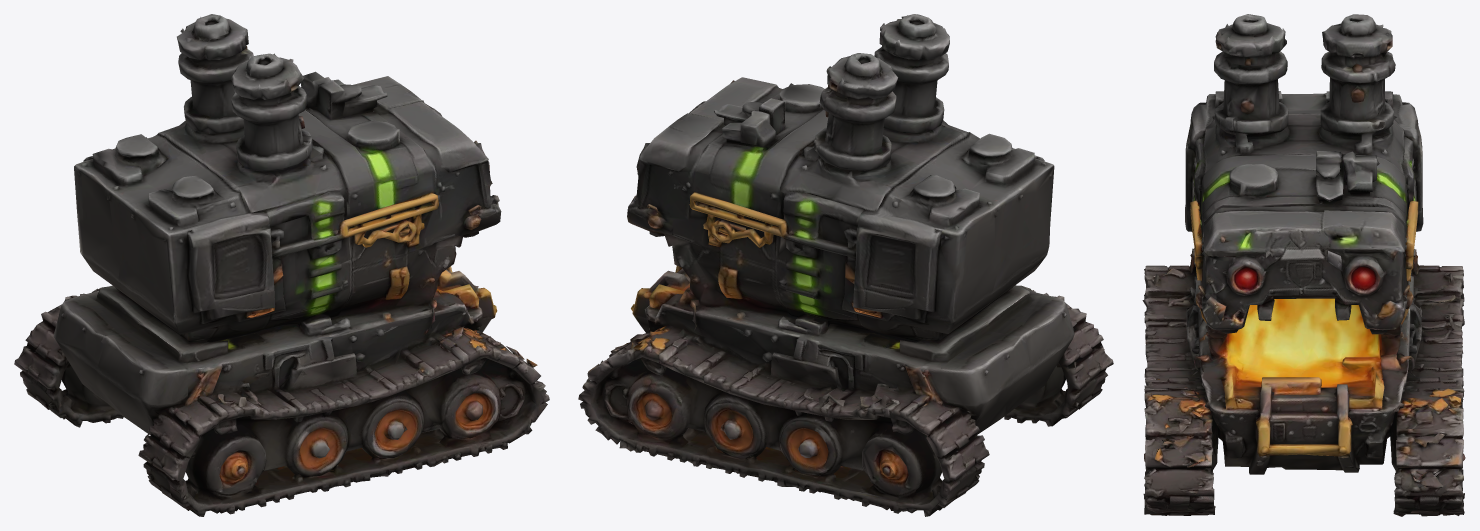
File: boss_engine.glb
3 renders of one model, left to right at view 1: azimuth 30°, elevation 25°; view 2: azimuth 150°, elevation 25°; view 3: azimuth 270°, elevation 25°, orthographic.
Visible parts, largest first — view 1: tripo_node_e400d495-1d70-4a48-b86e-15ef0babe3c6; view 2: tripo_node_e400d495-1d70-4a48-b86e-15ef0babe3c6; view 3: tripo_node_e400d495-1d70-4a48-b86e-15ef0babe3c6.
Part boxes in pixels (<box>): tripo_node_e400d495-1d70-4a48-b86e-15ef0babe3c6: <box>14,14,549,516</box>; tripo_node_e400d495-1d70-4a48-b86e-15ef0babe3c6: <box>578,14,1113,516</box>; tripo_node_e400d495-1d70-4a48-b86e-15ef0babe3c6: <box>1142,14,1465,516</box>.
Size of the model in its own units: 0.9998 by 1 by 0.7237.
Materials: 1 (1 with a texture image).
